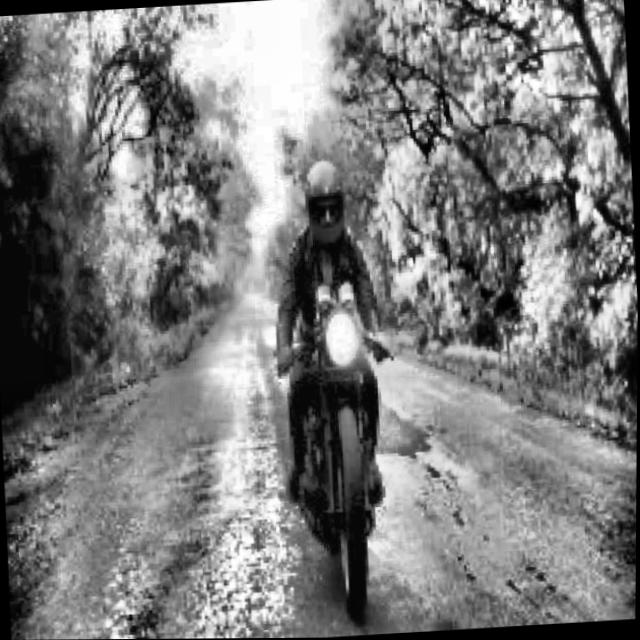motorcycle: (256, 275, 426, 637)
